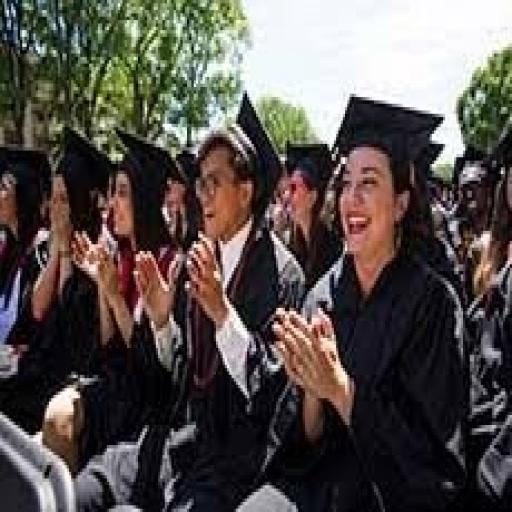clapping: (2, 90, 508, 506)
